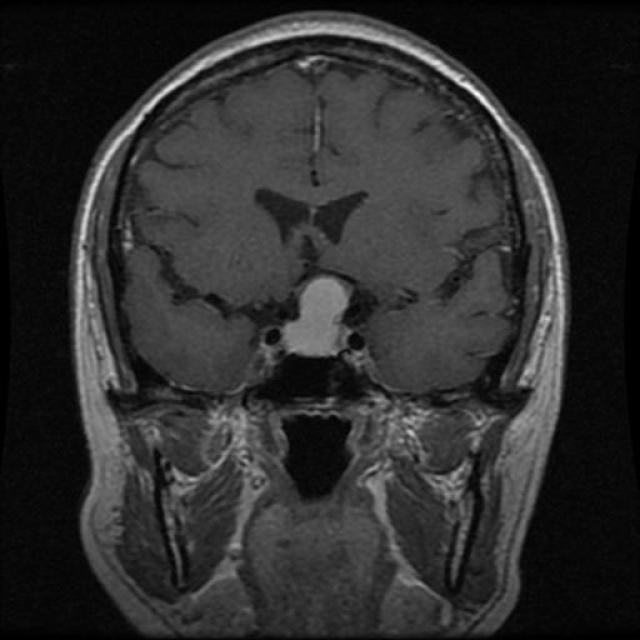pituitary: (272, 258, 370, 366)
